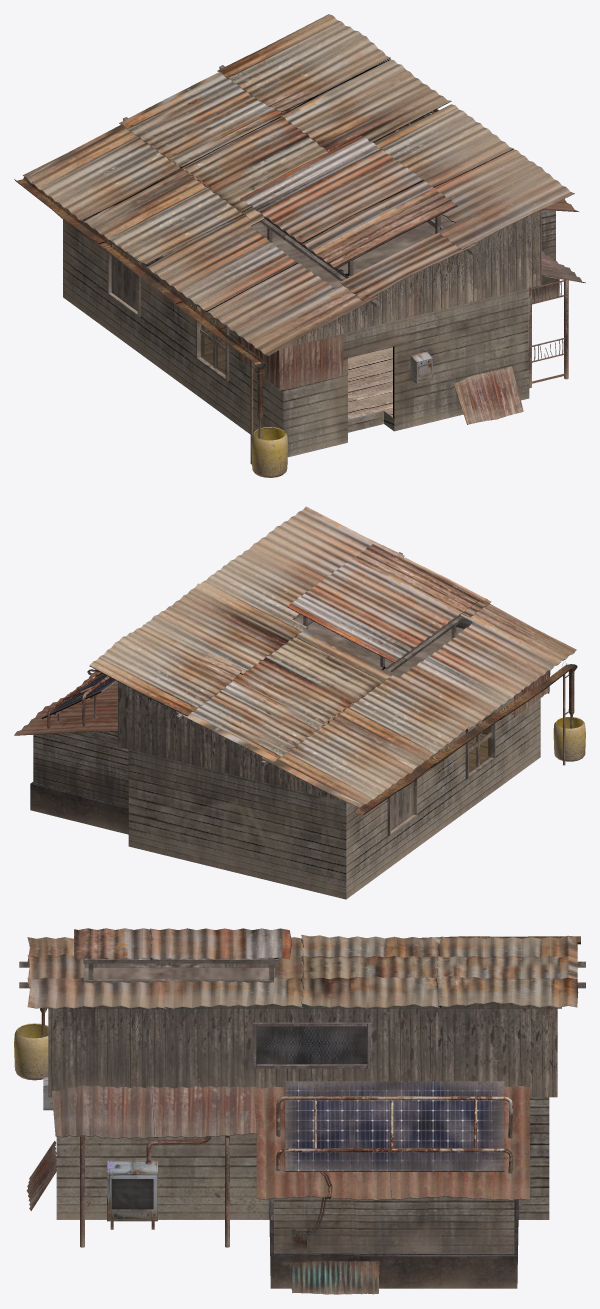
The model's file is post_hq.glb.
The picture shows the model from 3 angles, top to bottom: view 1: azimuth 30°, elevation 25°; view 2: azimuth 150°, elevation 25°; view 3: azimuth 270°, elevation 25°; orthographic projection. The views are drawn at different scales.
Parts seen in each view (by area): view 1: Object_40, Object_4, Object_38, Object_56, Object_6, Object_24; view 2: Object_40, Object_4, Object_38, Object_56, Object_6, Object_24; view 3: Object_40, Object_38, Object_4, Object_6, Object_56.
Boxes of the visible parts, x1,y1,x2,y2 form: Object_40: (23,14,585,355); Object_4: (63,209,559,457); Object_38: (93,65,541,390); Object_56: (14,177,568,477); Object_6: (107,109,438,381); Object_24: (201,309,225,374); Object_40: (14,506,576,808); Object_4: (30,696,540,899); Object_38: (118,552,550,802); Object_56: (87,659,585,815); Object_6: (42,672,495,835); Object_24: (469,715,490,772); Object_40: (27,928,578,1200); Object_38: (19,947,585,1097); Object_4: (56,1097,549,1288); Object_6: (253,1022,512,1220); Object_56: (14,936,580,1294).
Size of the model in its own units: 10.36 by 4.89 by 10.67.
6 materials, 5 textured.
